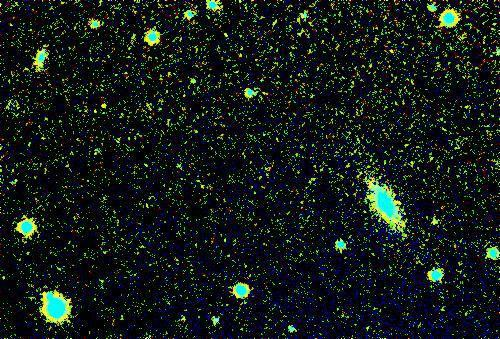star: (92, 91, 122, 121)
